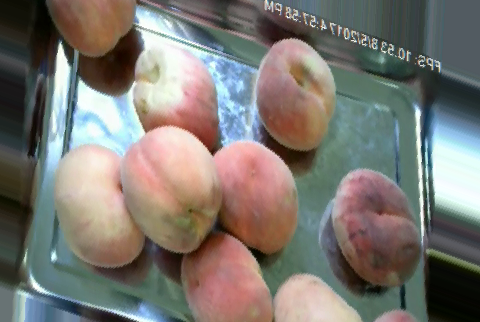Peach: (120, 127, 221, 251), (57, 143, 141, 268), (330, 168, 420, 282), (212, 137, 298, 254), (132, 42, 219, 148), (256, 37, 336, 149), (178, 231, 274, 322), (44, 0, 137, 57)
